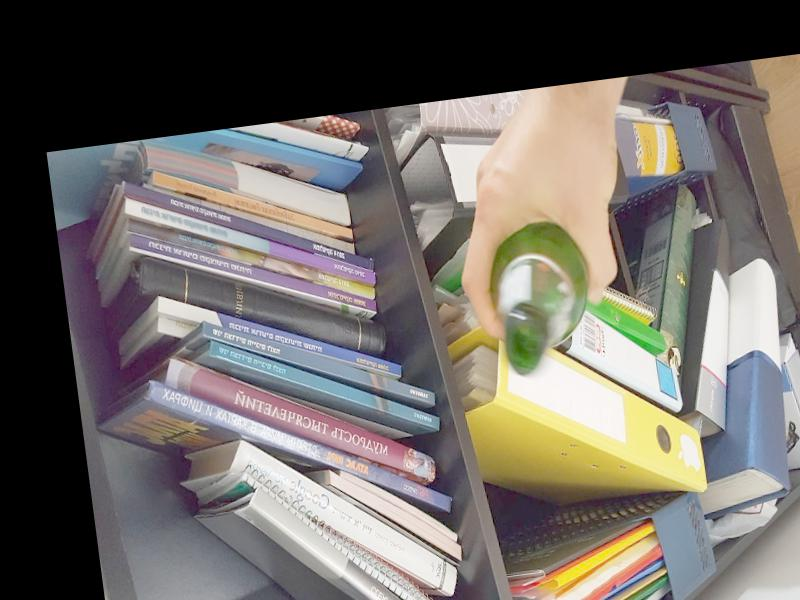Beer: (483, 216, 600, 377)
